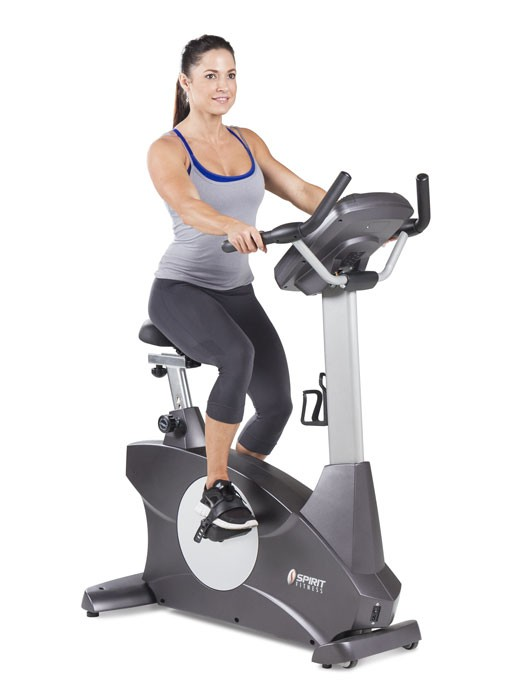gym_bike: (79, 164, 448, 679)
